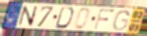0: (73, 7, 92, 31)
7: (37, 5, 56, 28)
D: (54, 6, 75, 30)
F: (93, 8, 116, 31)
G: (112, 9, 131, 32)
N: (17, 5, 38, 28)
